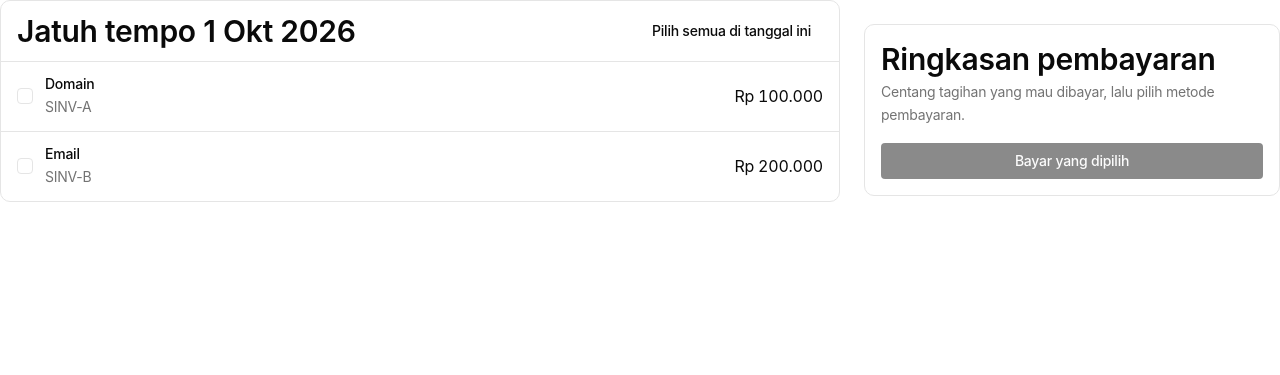
Scenario: OutstandingBillsPanel › charges the admin fee ONCE on the sum, not once per bill
Click the button "Pilih semua di tanggal ini". click: (732, 31)
box: [640, 15, 823, 47]
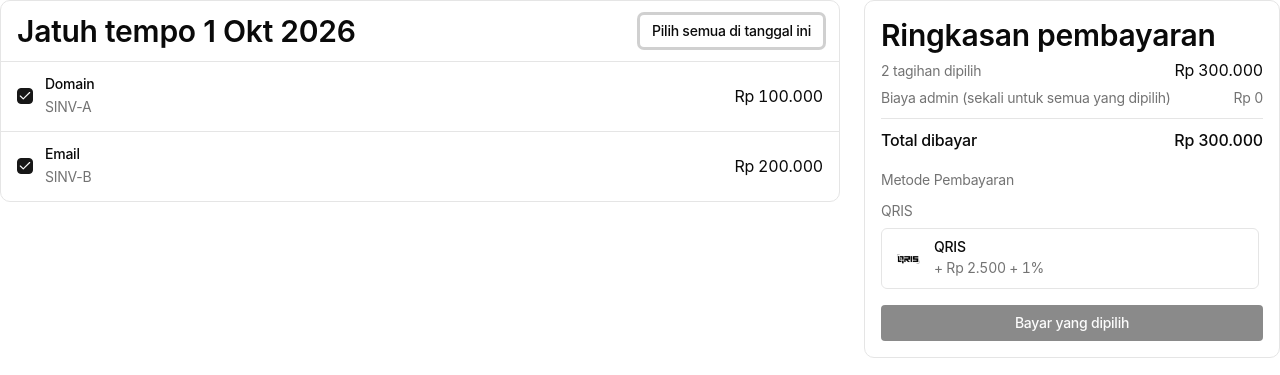
Click the button "QRIS + Rp 2.500 + 1%". click: (950, 247)
box: [881, 228, 1259, 289]
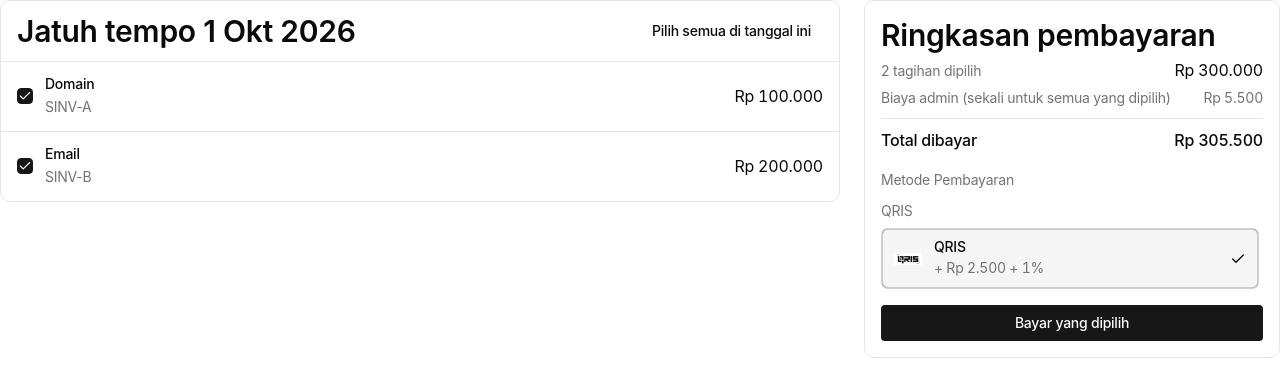
Result: the text "Rp 5.500" is shown at [1204, 87, 1263, 110]
Result: the text "Rp 305.500" is shown at [1174, 127, 1263, 153]
